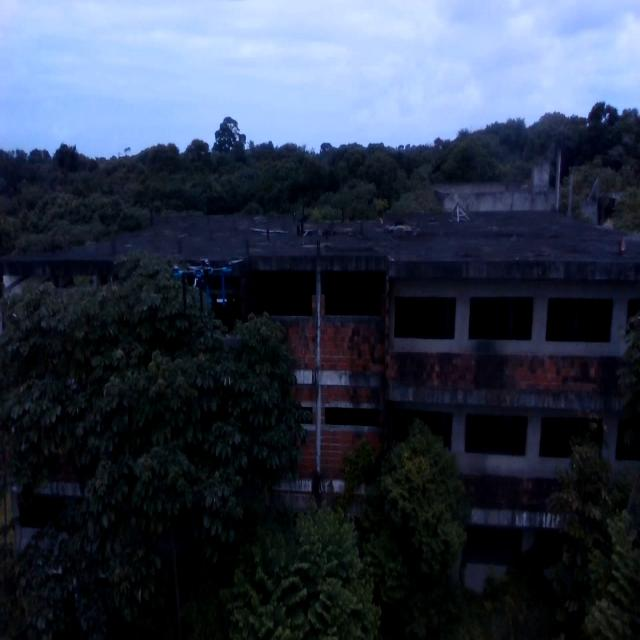-uav-: (172, 244, 246, 332)
